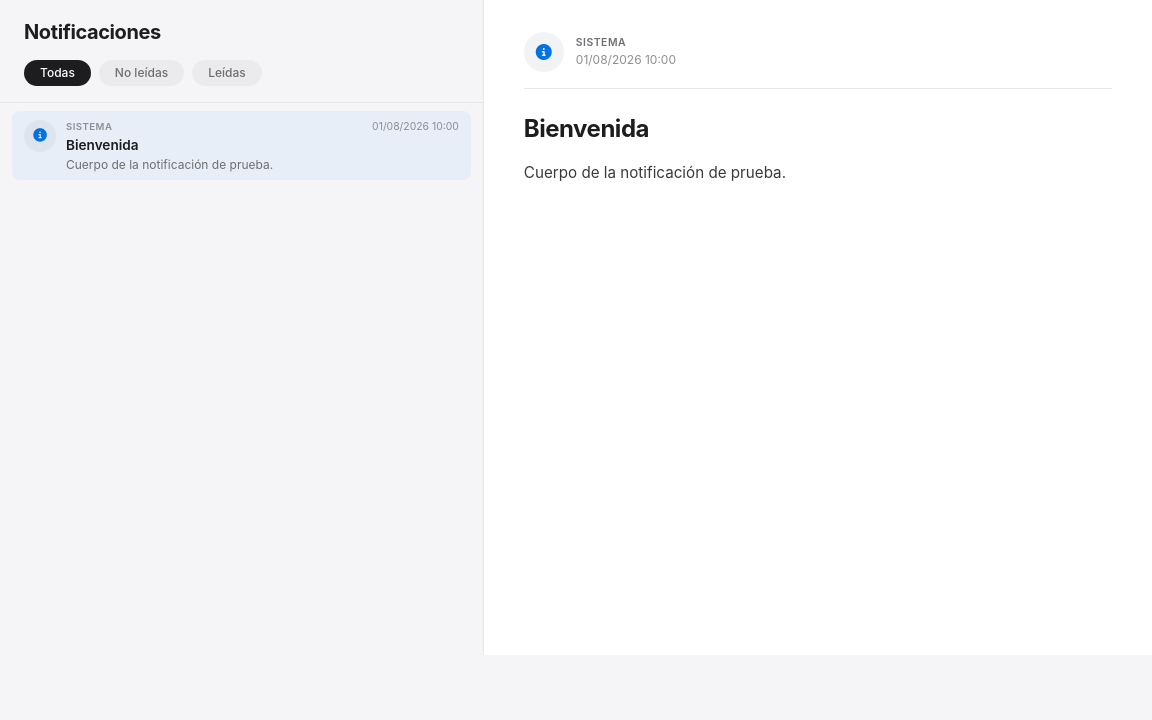
Test: Notifications › muestra el vacio del filtro no leidas
Click the button "No leídas" at coordinates (141, 73), box top-left (99, 60), bottom-right (184, 86)
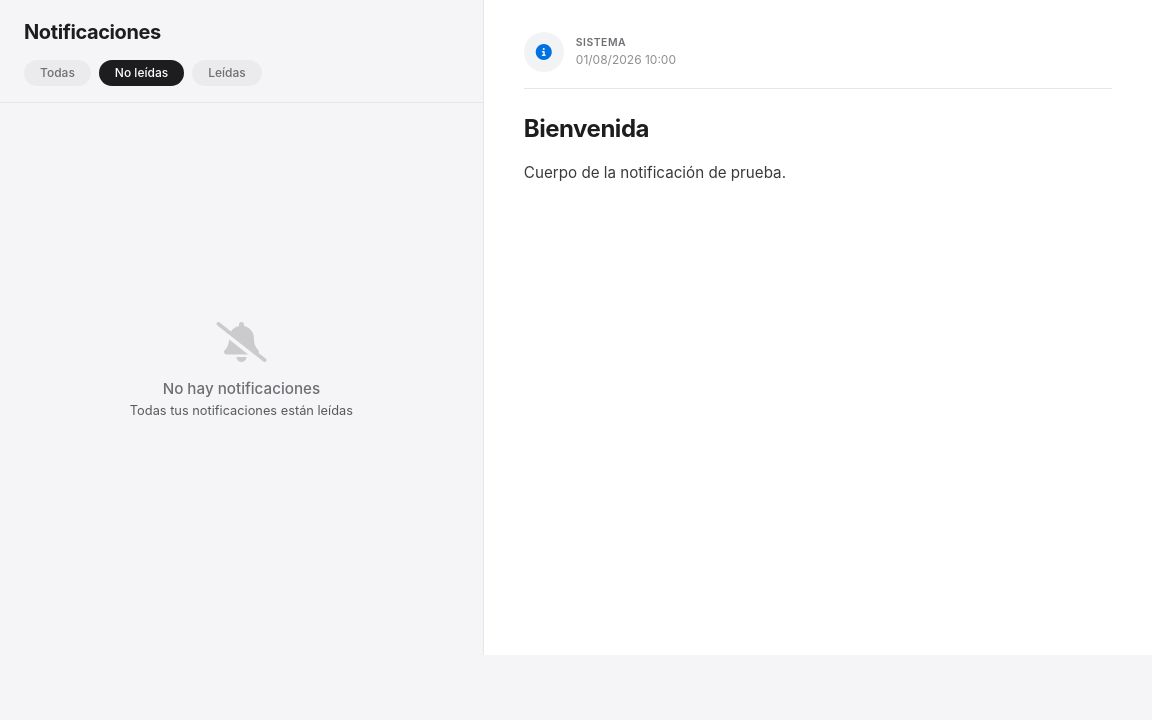
Expected: the text "Todas tus notificaciones están leídas" is shown, top-left (130, 401), bottom-right (353, 420)
